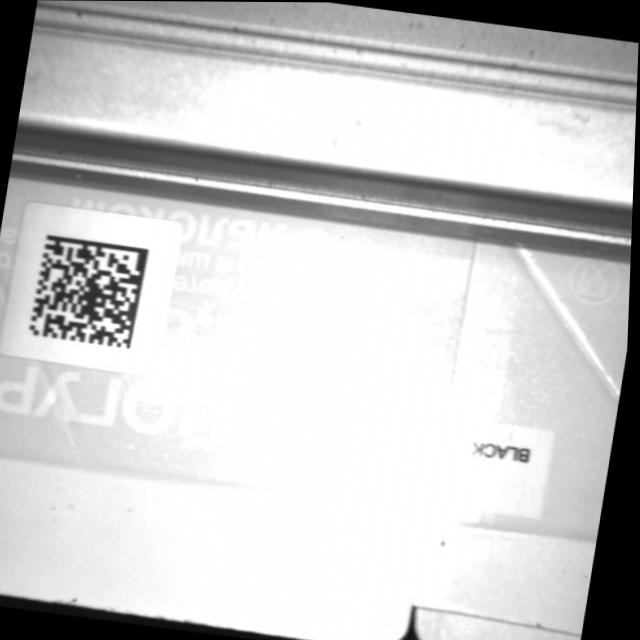datamatrix: (29, 233, 153, 350)
